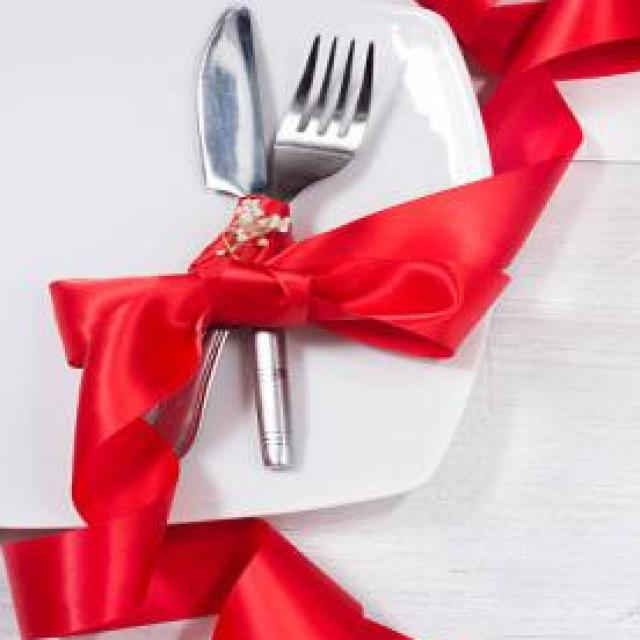knife: (192, 5, 302, 472)
